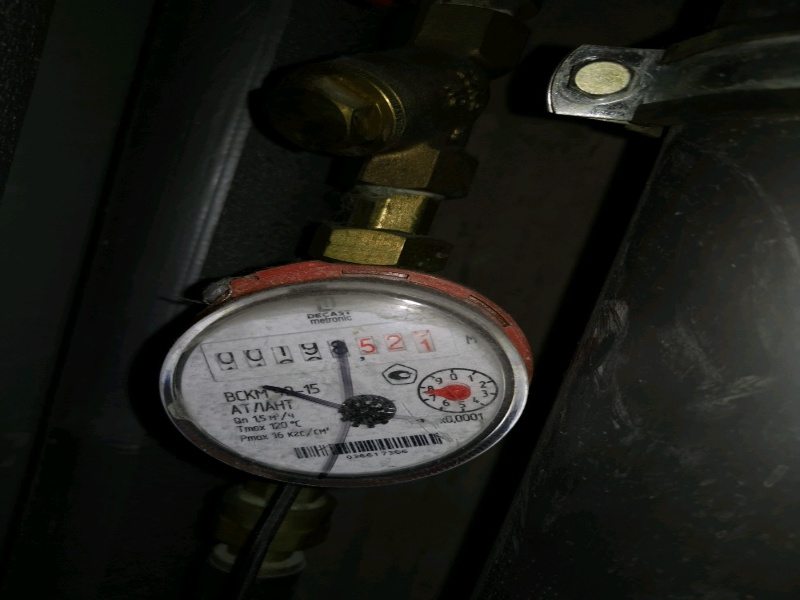meter: (193, 333, 455, 366)
